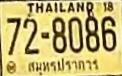0: (68, 16, 82, 52)
2: (23, 18, 38, 54)
6: (101, 15, 116, 51)
7: (6, 16, 20, 54)
8: (85, 15, 99, 51), (52, 16, 66, 52)
SPK: (27, 57, 101, 76)
